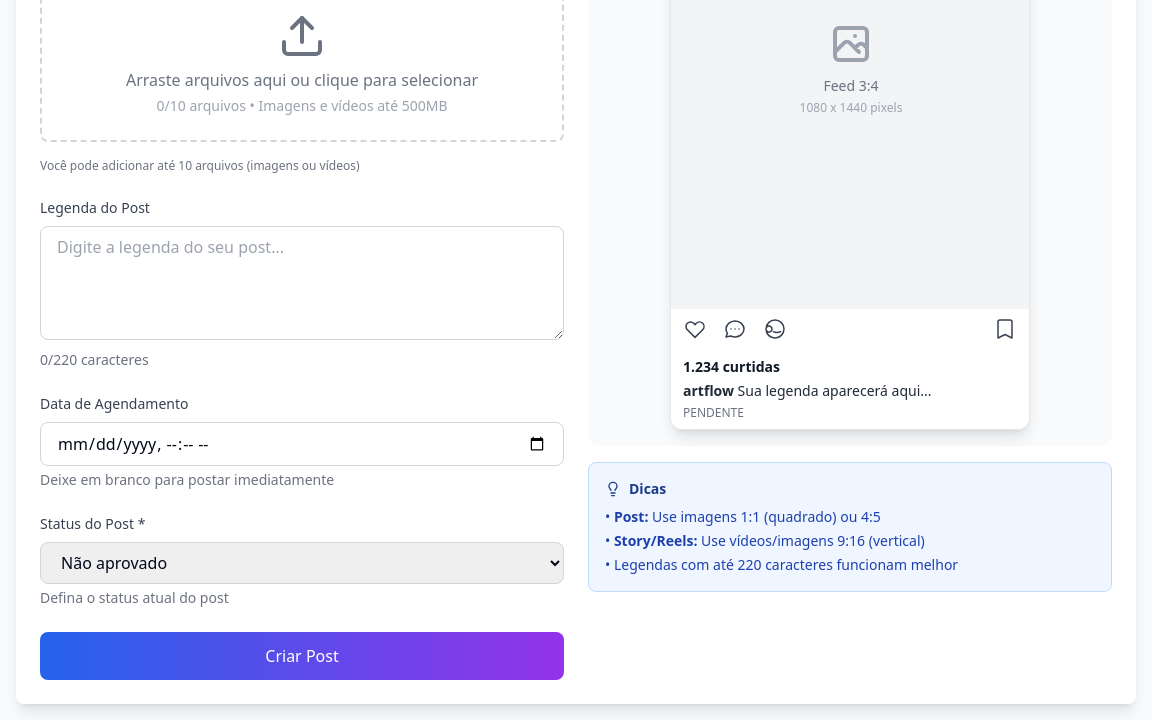
Test: PostForm Component › Form Validation › should validate empresa and squad for admin master
(page scrolled)
Click the button "Criar Post" at (302, 656), box 40,632 -> 564,680
(page scrolled)
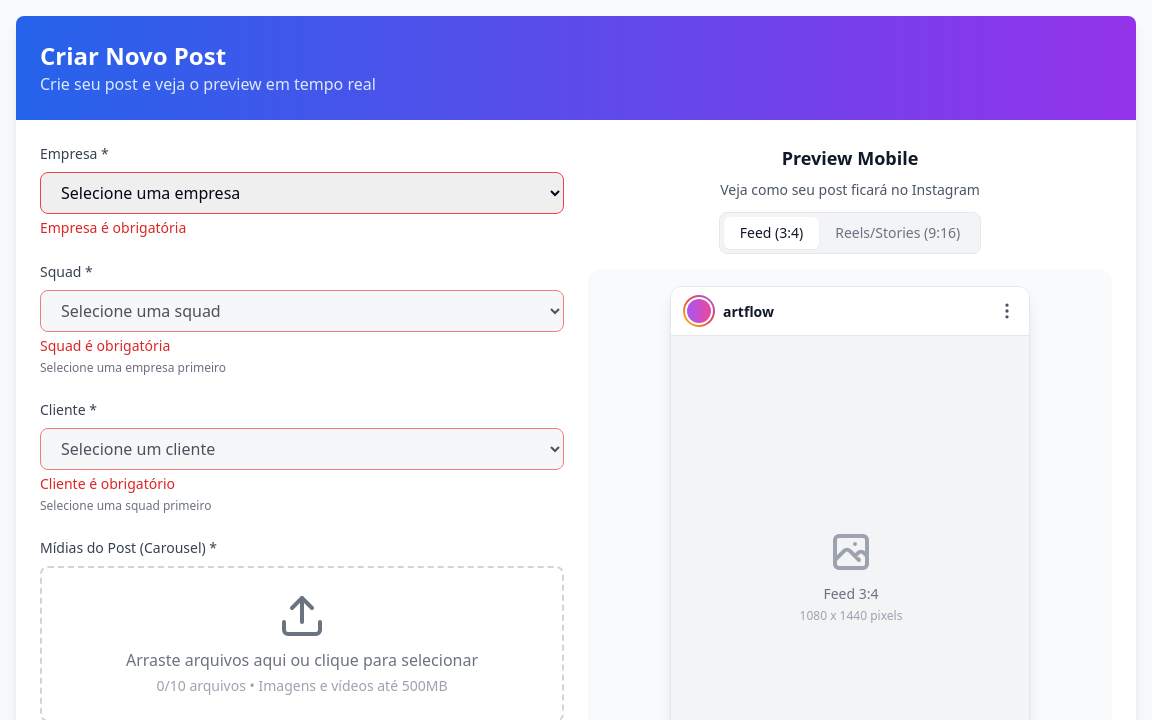
Now the text "Empresa é obrigatória" is shown, box 40,218 -> 186,237
